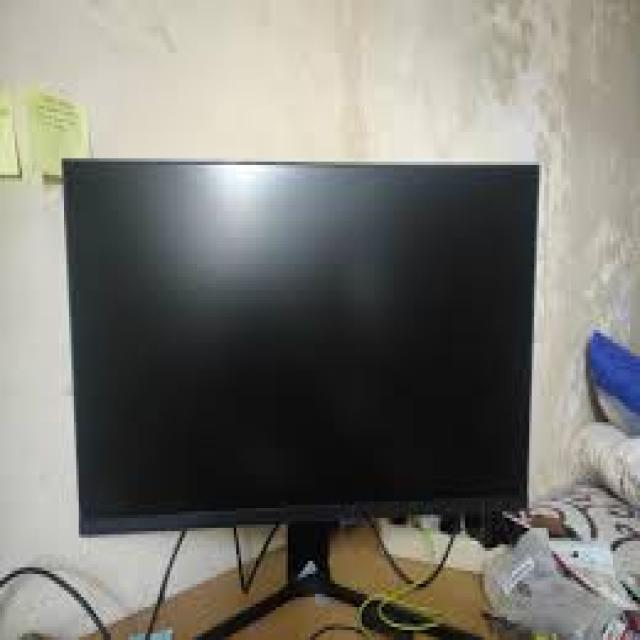monitor: (9, 136, 581, 640)
